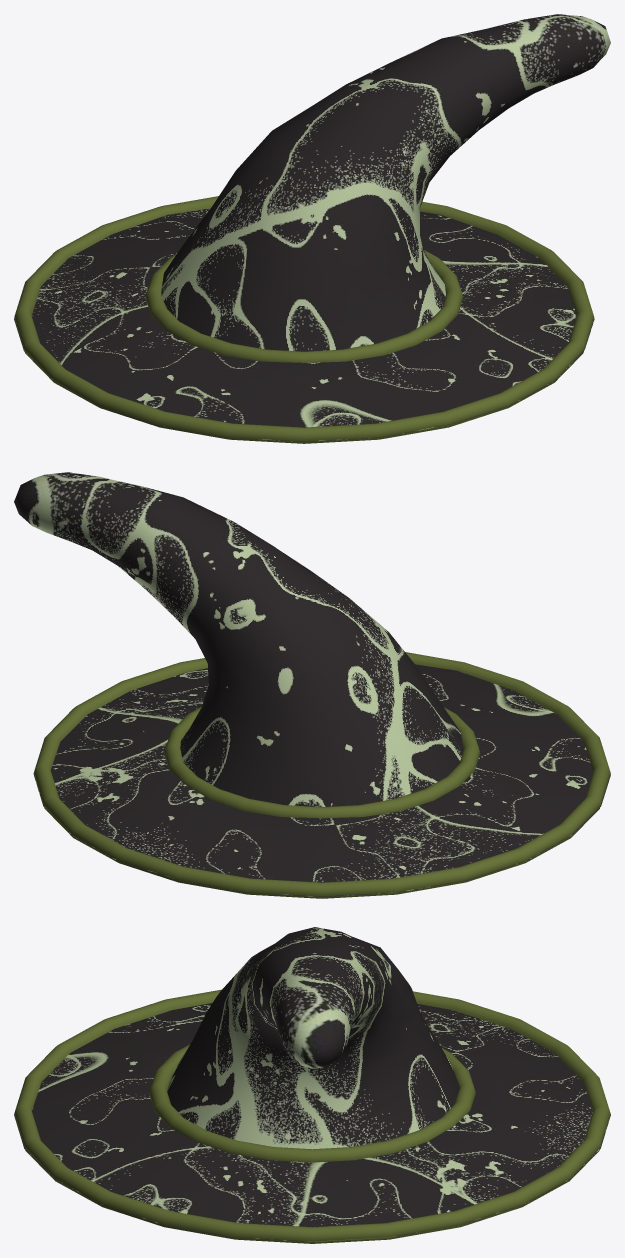
Rendered from Wizard_hat.fbx.
3 renders of one model, top to bottom at view 1: azimuth 30°, elevation 25°; view 2: azimuth 150°, elevation 25°; view 3: azimuth 270°, elevation 25°, orthographic. The views are drawn at different scales.
Visible parts, largest first — view 1: Circle.004; view 2: Circle.004; view 3: Circle.004.
Boxes of the visible parts, x1,y1,x2,y2 form: Circle.004: (14, 14, 610, 443); Circle.004: (14, 472, 610, 898); Circle.004: (14, 927, 610, 1243).
Size of the model in its own units: 222 by 92.26 by 200.
Materials: 1 (1 with a texture image).
